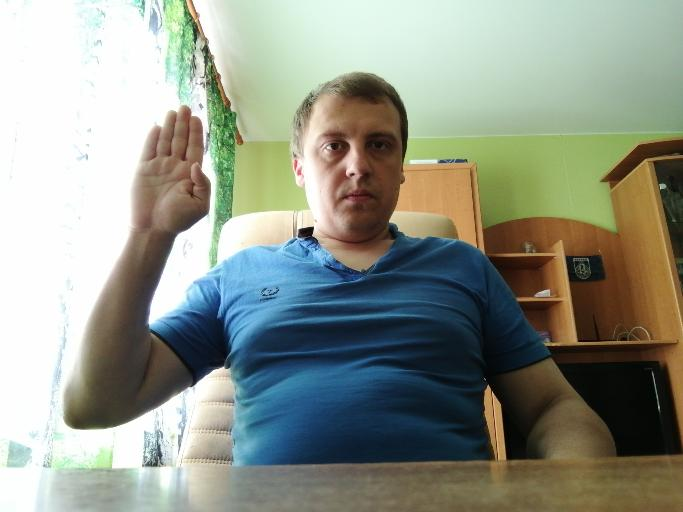stop: (130, 104, 211, 237)
